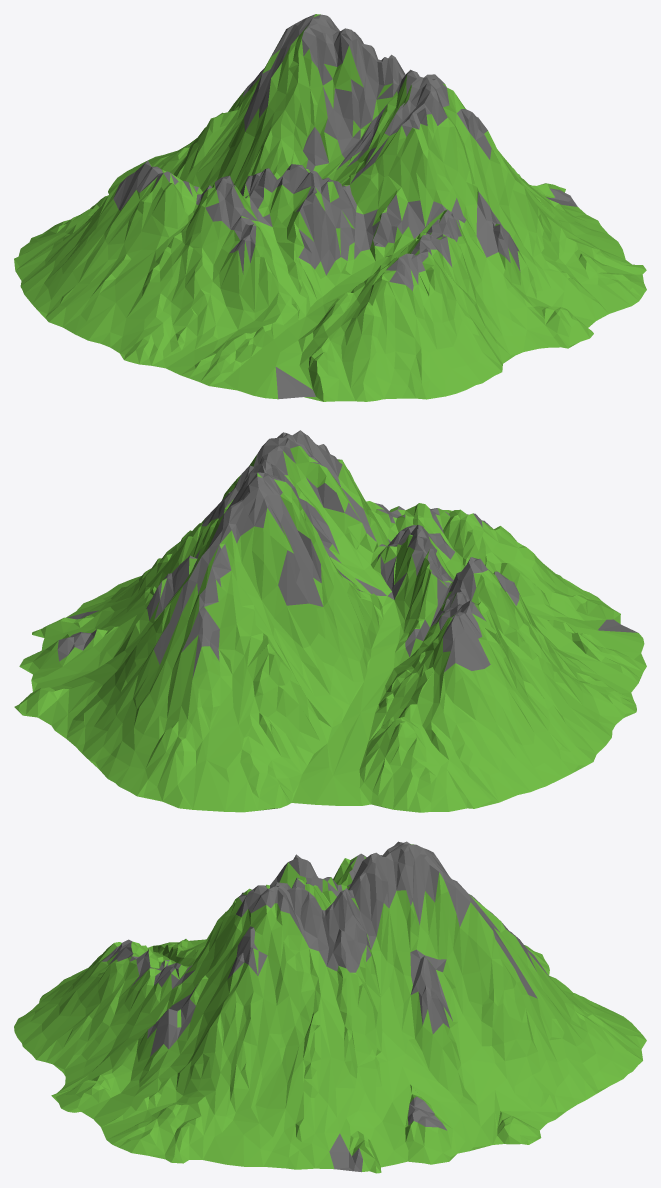
File: gunung.fbx
The picture shows the model from 3 angles, top to bottom: view 1: azimuth 30°, elevation 25°; view 2: azimuth 150°, elevation 25°; view 3: azimuth 270°, elevation 25°; orthographic projection. The views are drawn at different scales.
Visible parts, largest first — view 1: Mountain; view 2: Mountain; view 3: Mountain.
Boxes of the visible parts, <box> form: Mountain: <box>14,14,646,401</box>; Mountain: <box>14,430,646,812</box>; Mountain: <box>14,841,646,1173</box>.
Bounding box in the file's own units: 573 × 229 × 603.
